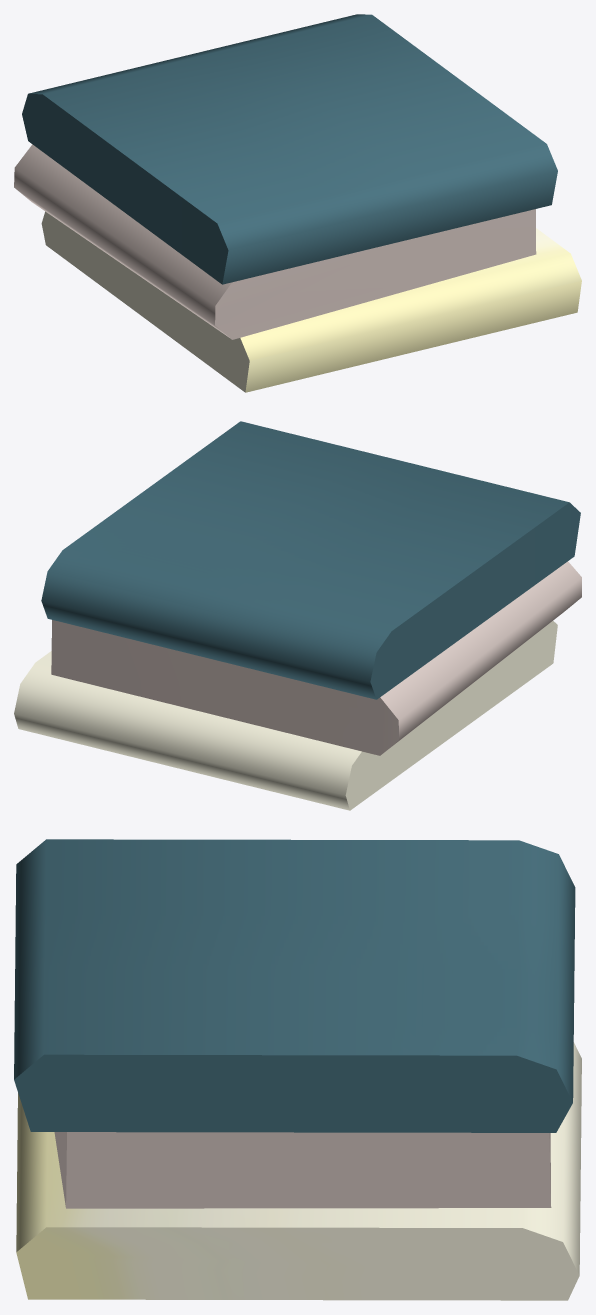
File: shop_048.glb
3 views of the same model, one above another, from view 1: azimuth 30°, elevation 25°; view 2: azimuth 150°, elevation 25°; view 3: azimuth 270°, elevation 25° (orthographic). The views are drawn at different scales.
Parts seen in each view (by area): view 1: shop_048; view 2: shop_048; view 3: shop_048.
Part boxes in pixels (x1=…): shop_048: x1=14, y1=14, x2=581, y2=392; shop_048: x1=14, y1=421, x2=581, y2=810; shop_048: x1=14, y1=839, x2=581, y2=1300.
Bounding box in the file's own units: 0.4103 × 0.1796 × 0.4043.
1 material, 1 textured.
